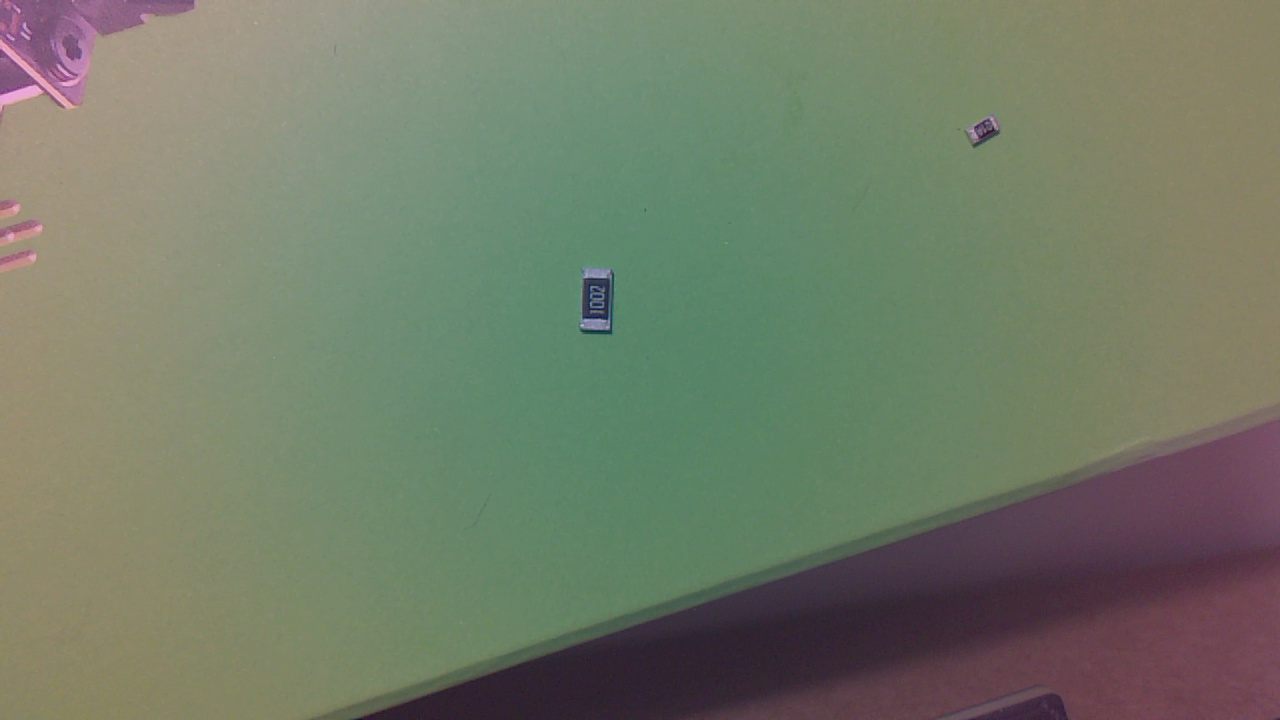Resistor: (585, 269, 623, 340), (968, 119, 1008, 151)
